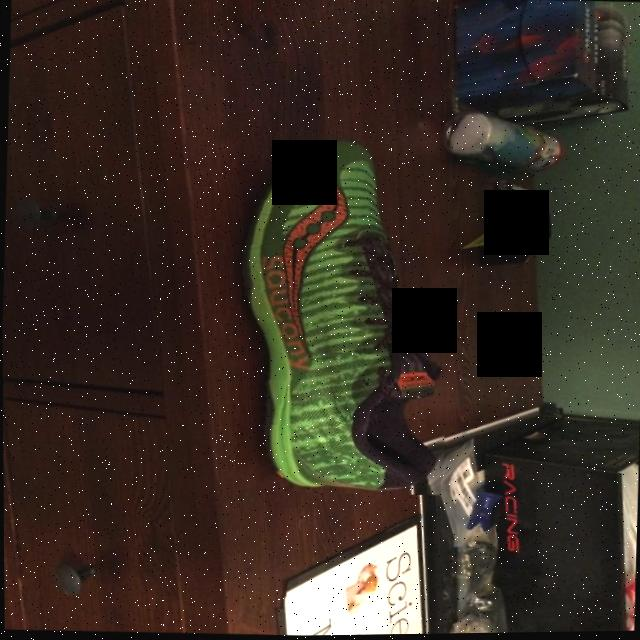shoe: (233, 129, 461, 499)
